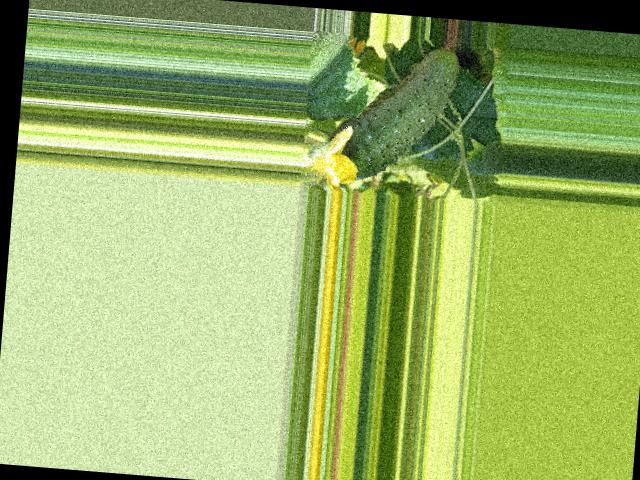cucumber: (326, 31, 462, 187)
